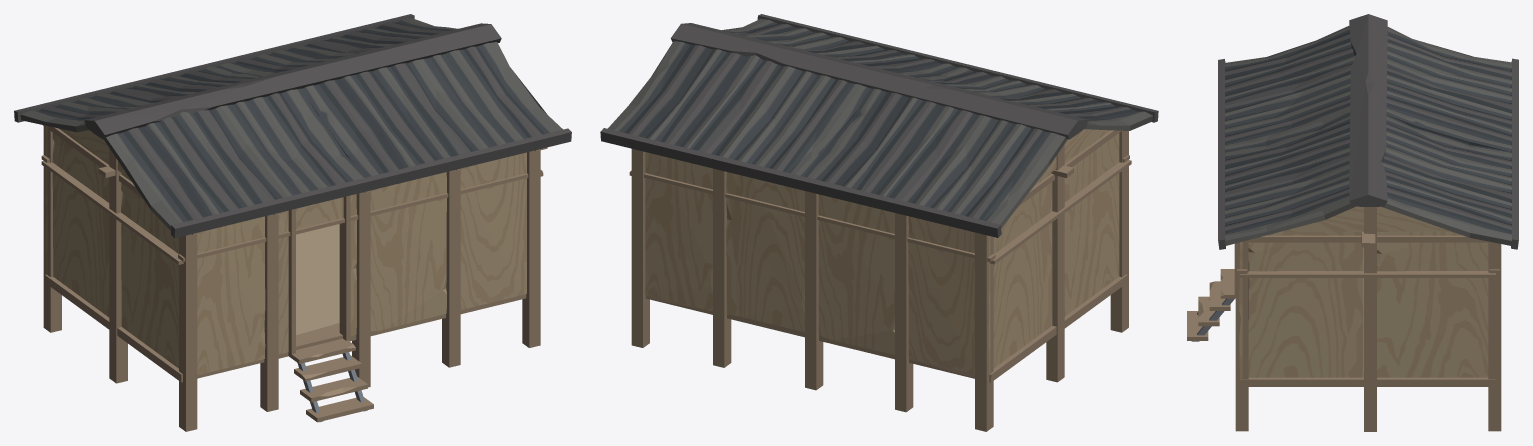
Rendered from SM_Bld_Plywood_Shed_01.fbx.
The picture shows the model from 3 angles, left to right: view 1: azimuth 30°, elevation 25°; view 2: azimuth 150°, elevation 25°; view 3: azimuth 270°, elevation 25°; orthographic projection. The views are drawn at different scales.
Parts seen in each view (by area): view 1: SM_Bld_Plywood_Shed_01; view 2: SM_Bld_Plywood_Shed_01; view 3: SM_Bld_Plywood_Shed_01.
Part boxes in pixels (x1,y1,x2,y2): SM_Bld_Plywood_Shed_01: (14, 14, 571, 431); SM_Bld_Plywood_Shed_01: (600, 14, 1158, 431); SM_Bld_Plywood_Shed_01: (1187, 14, 1518, 431).
Size of the model in its own units: 807 by 513 by 625.
